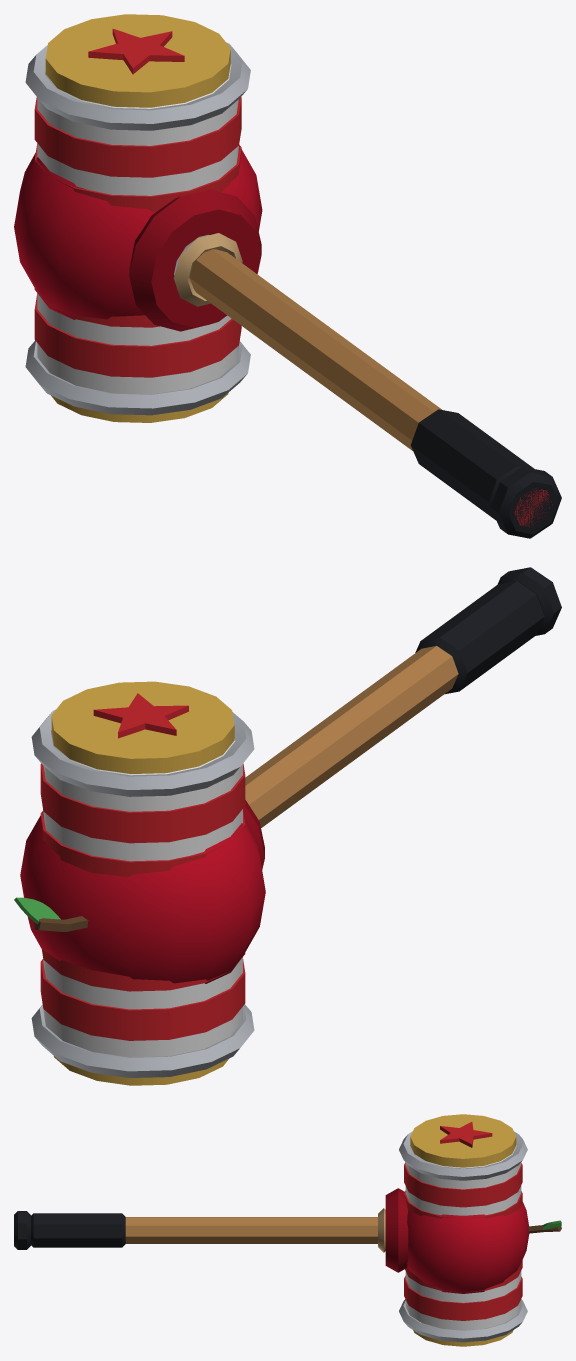
File: 2026-11-24_pioche.glb
3 renders of one model, top to bottom at view 1: azimuth 30°, elevation 25°; view 2: azimuth 150°, elevation 25°; view 3: azimuth 270°, elevation 25°, orthographic. The views are drawn at different scales.
Visible parts, largest first — view 1: pioche_maillet_de_force, pioche_pomme_d_amour; view 2: pioche_maillet_de_force, pioche_pomme_d_amour; view 3: pioche_maillet_de_force, pioche_pomme_d_amour.
Boxes of the visible parts, left/top/right/bottom form: pioche_maillet_de_force: left=25, top=14, right=561, bottom=538; pioche_pomme_d_amour: left=14, top=145, right=552, bottom=527; pioche_maillet_de_force: left=31, top=567, right=561, bottom=1085; pioche_pomme_d_amour: left=14, top=800, right=265, bottom=983; pioche_maillet_de_force: left=14, top=1114, right=527, bottom=1346; pioche_pomme_d_amour: left=378, top=1188, right=561, bottom=1293.
Size of the model in its own units: 0.3 by 0.446 by 1.14.
